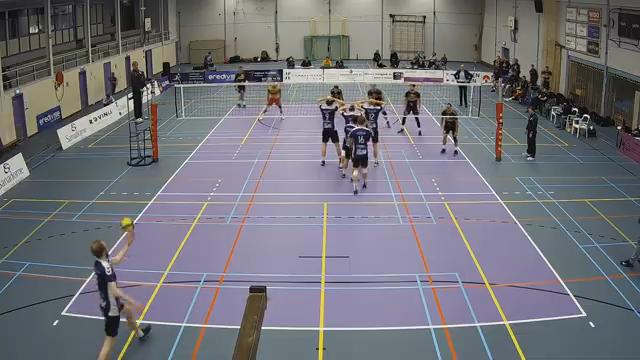Attack: (87, 231, 154, 359)
Player: (356, 99, 385, 166), (349, 116, 372, 194), (318, 97, 343, 165), (339, 105, 361, 177), (398, 84, 421, 135), (440, 103, 458, 154), (262, 83, 283, 119), (234, 66, 246, 107), (367, 84, 383, 100), (330, 85, 343, 101)
ball: (118, 216, 137, 233)
